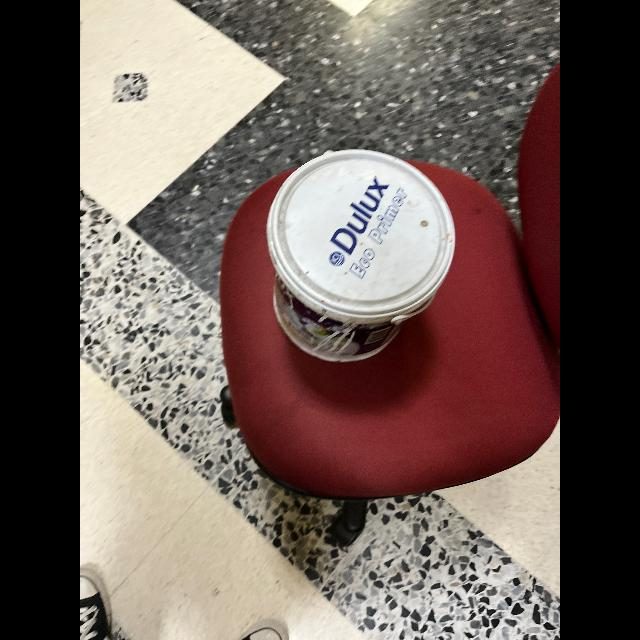paint_bucket: (246, 147, 464, 366)
